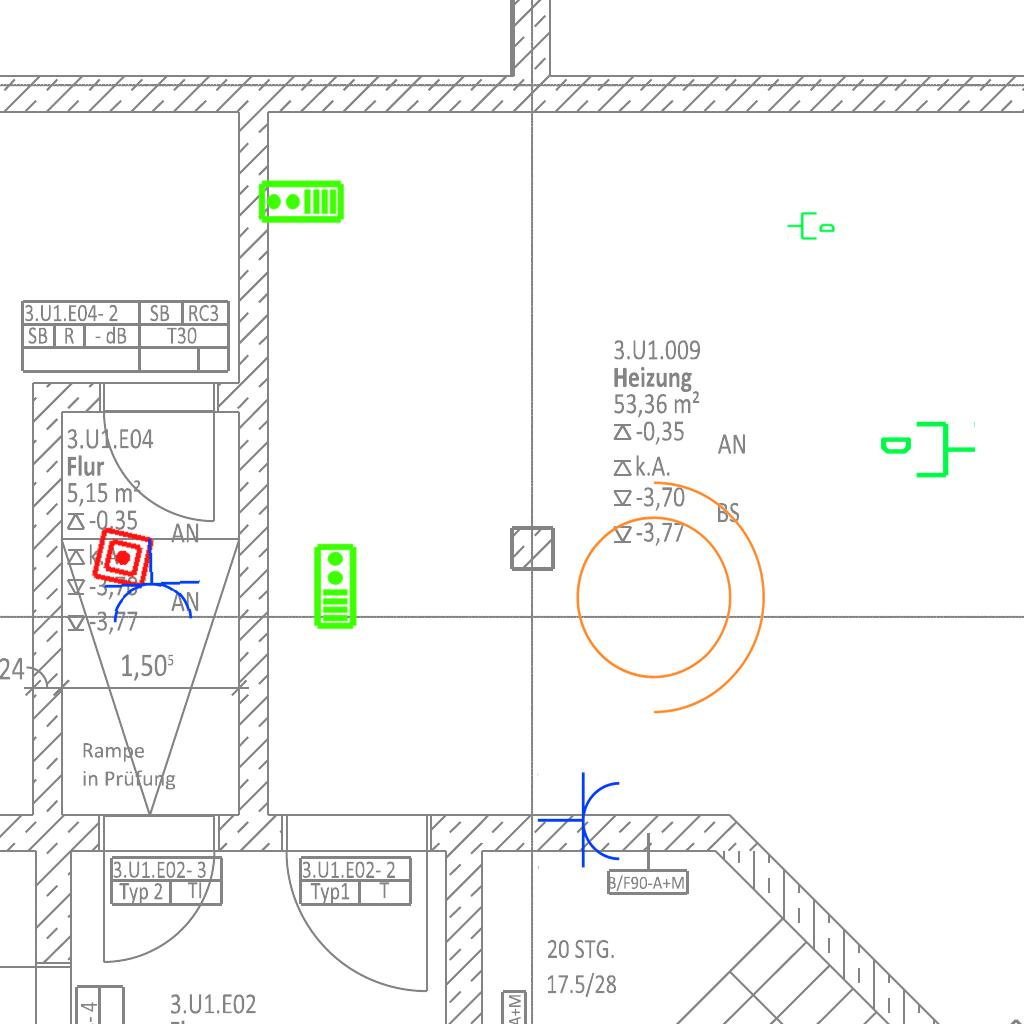Datenanschluss_einfach: (878, 417, 978, 486), (786, 208, 836, 242)
Gegensprechanlage_mit_Video: (257, 179, 345, 226), (311, 542, 358, 630)
NAM-Nichtautomatischer_Melder: (89, 524, 157, 592)
Scheinwerfer_fuer_Alarmbeleuchtung: (551, 459, 776, 723)
Schukosteckdose_einfach: (98, 535, 204, 628), (537, 771, 624, 871)
